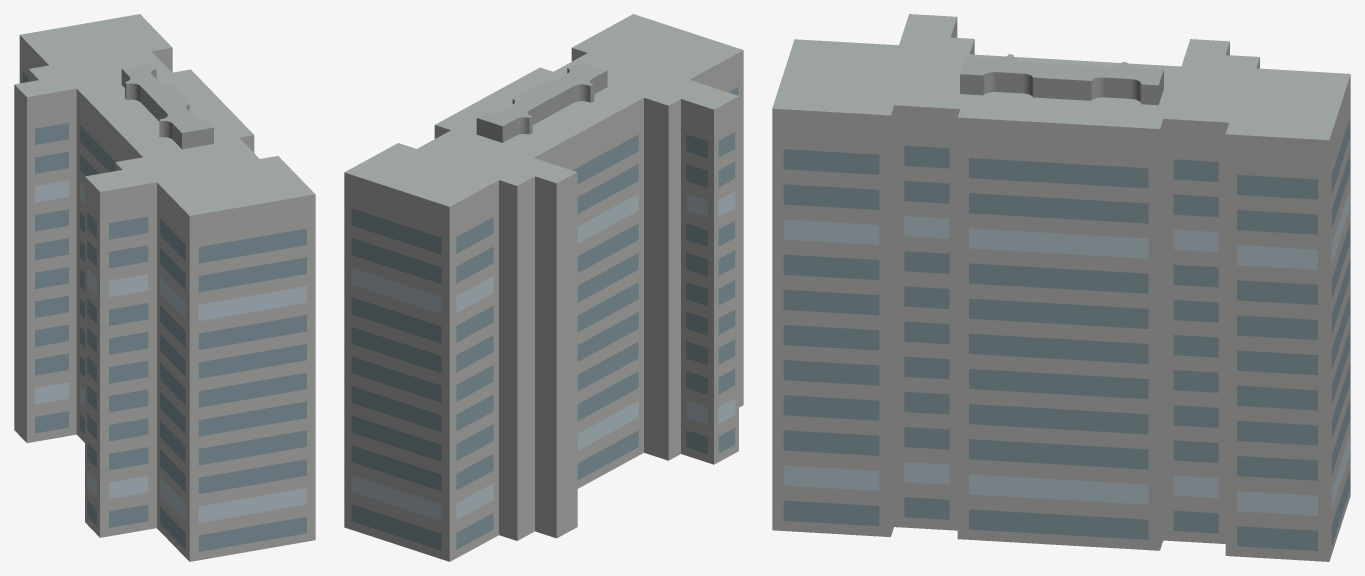
File: fallback-mapo-raemian-prugio-411.glb
3 renders of one model, left to right at view 1: azimuth 30°, elevation 25°; view 2: azimuth 150°, elevation 25°; view 3: azimuth 270°, elevation 25°, orthographic. The views are drawn at different scales.
Parts seen in each view (by area): view 1: fallback-mapo-raemian-prugio-411; view 2: fallback-mapo-raemian-prugio-411; view 3: fallback-mapo-raemian-prugio-411.
Boxes of the visible parts, box(x1,y1,x2,y2) form: fallback-mapo-raemian-prugio-411: box(14, 14, 315, 561); fallback-mapo-raemian-prugio-411: box(344, 14, 743, 561); fallback-mapo-raemian-prugio-411: box(772, 14, 1350, 561).
Size of the model in its own units: 21.47 by 35 by 41.57.
